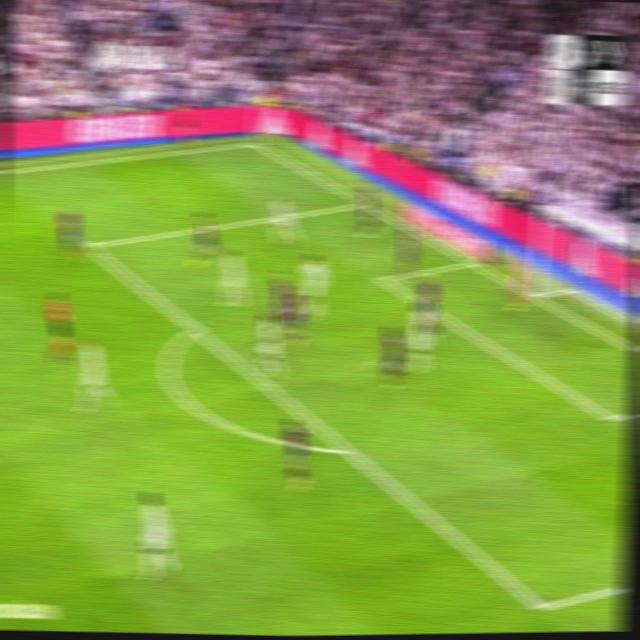bigarea_bottom_inner: (528, 587, 552, 626)
bigarea_top_inner: (80, 234, 99, 256)
bigarea_top_outter: (354, 193, 369, 210)
bottom_arc_area_intersection: (334, 431, 358, 465)
corner: (247, 136, 264, 148)
smallarea_bottom_inner: (600, 405, 619, 431)
smallarea_top_inner: (375, 270, 390, 287)
top_arc_area_intersection: (183, 315, 203, 339)
